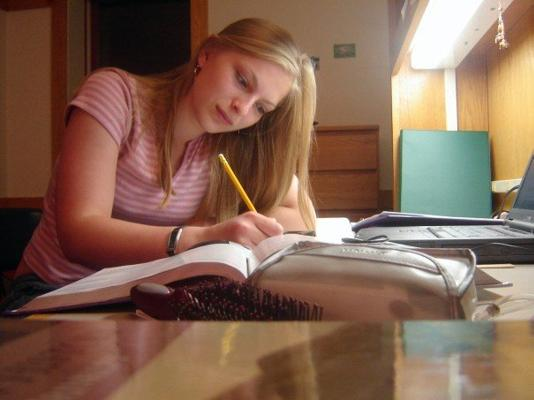person: (12, 16, 318, 306)
